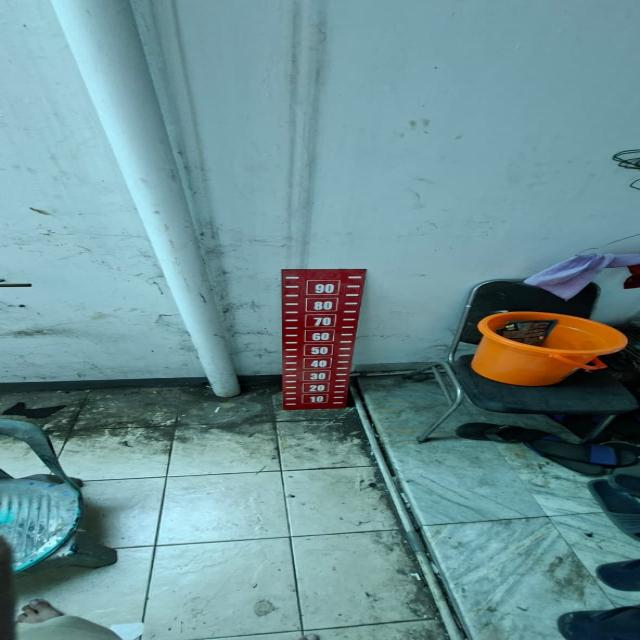water-meter: (267, 258, 388, 419)
